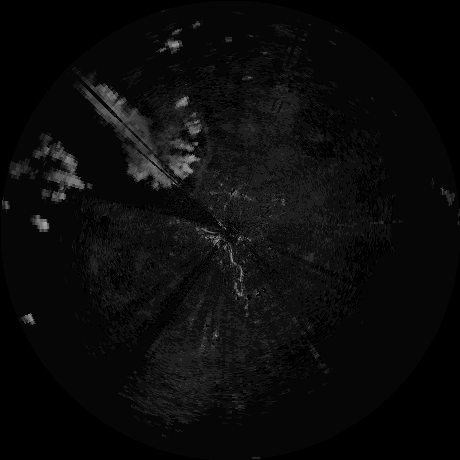frontgust: (195, 133, 217, 196), (228, 245, 249, 306)
